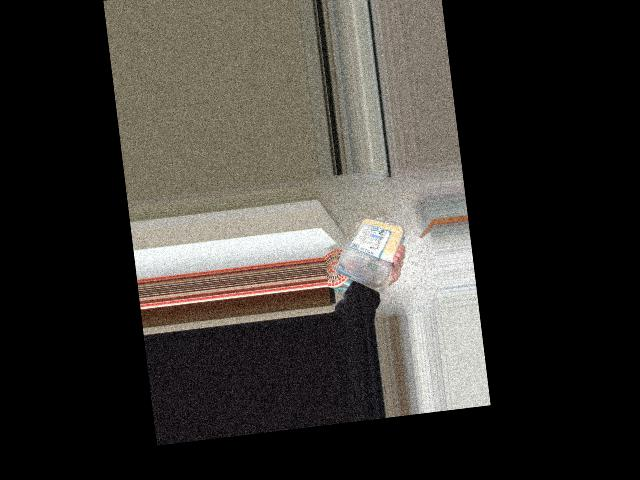cheese: (331, 212, 400, 288)
